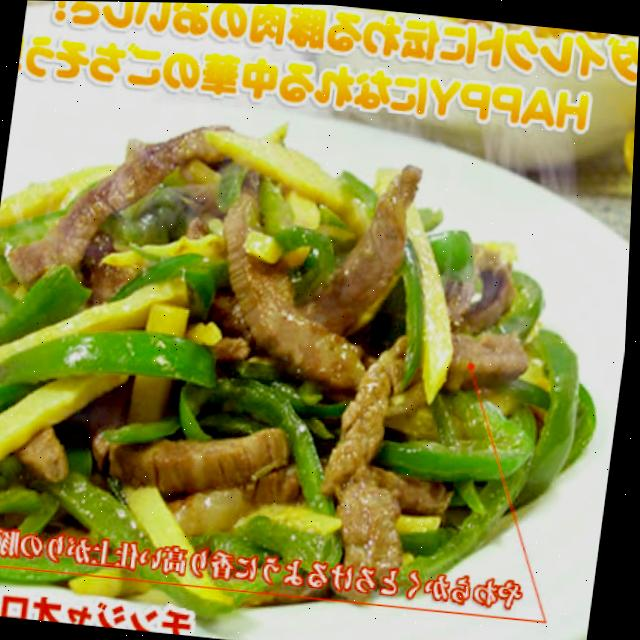牛肉菜式: (0, 91, 637, 559)
